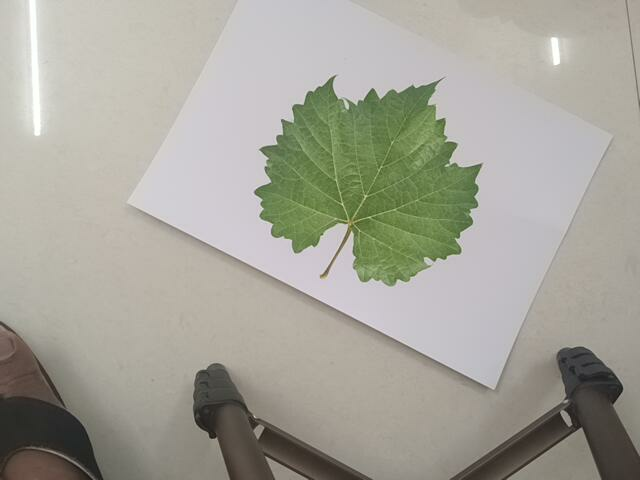Grape_Healthy: (252, 65, 489, 290)
